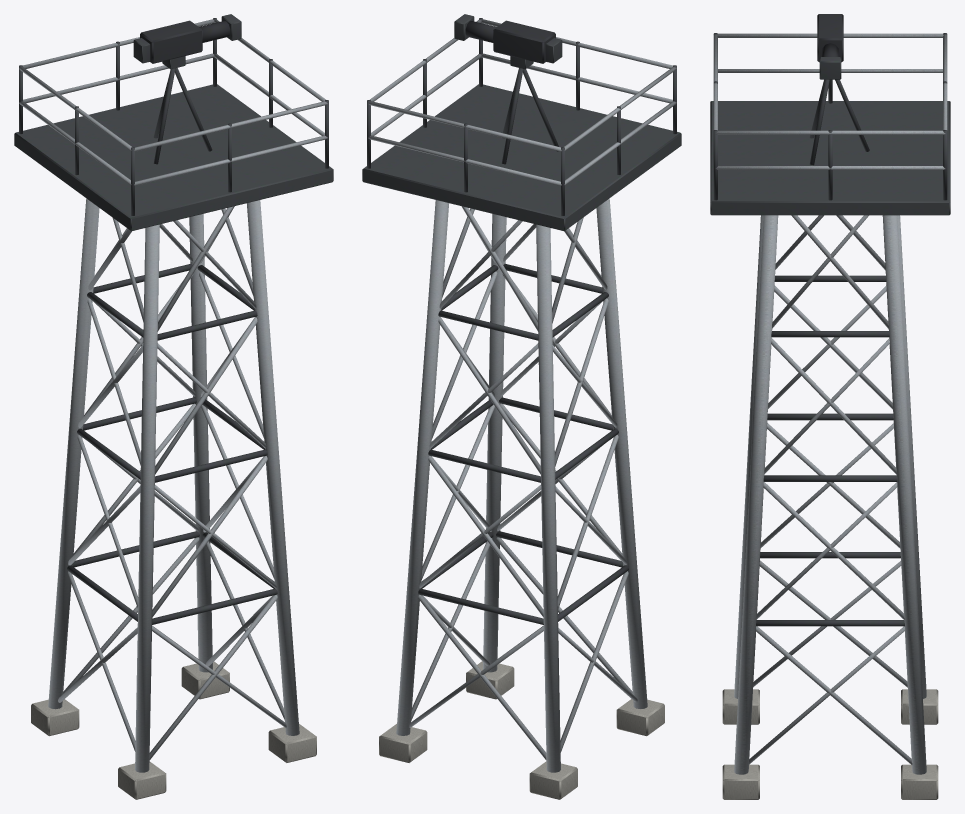
File: camera-tower_high.glb
3 views of the same model, side by side, from view 1: azimuth 30°, elevation 25°; view 2: azimuth 150°, elevation 25°; view 3: azimuth 270°, elevation 25° (orthographic). The views are drawn at different scales.
Visible parts, largest first — view 1: galvanised, dark-steel, concrete, rubber; view 2: galvanised, dark-steel, concrete, rubber; view 3: galvanised, dark-steel, concrete, rubber.
Part boxes in pixels (left/top/right/bottom): galvanised: left=19, top=19, right=327, bottom=772; dark-steel: left=14, top=14, right=333, bottom=624; concrete: left=31, top=661, right=316, bottom=799; rubber: left=140, top=20, right=230, bottom=63; galvanised: left=368, top=19, right=676, bottom=772; dark-steel: left=362, top=14, right=681, bottom=624; concrete: left=379, top=661, right=664, bottom=799; rubber: left=465, top=20, right=555, bottom=63; galvanised: left=713, top=33, right=947, bottom=774; dark-steel: left=710, top=33, right=950, bottom=626; concrete: left=722, top=689, right=938, bottom=799; rubber: left=817, top=14, right=843, bottom=62.
Bounding box in the file's own units: 3.1 × 10.36 × 3.1.
5 materials, 4 textured.
